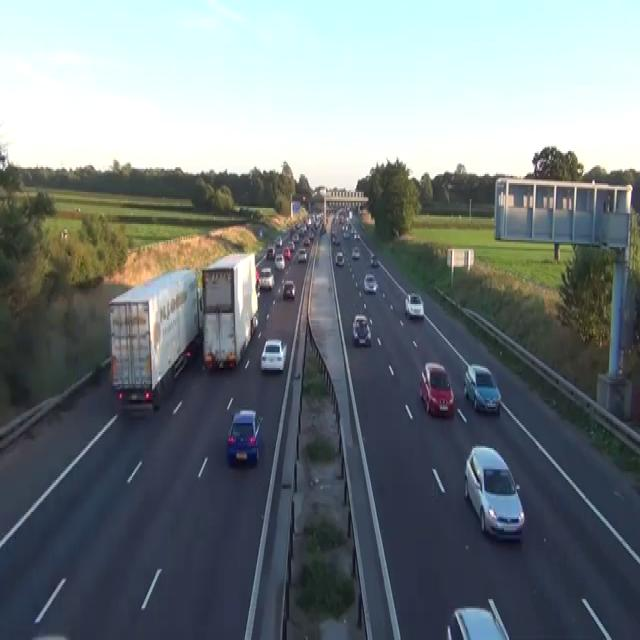Car: (463, 444, 524, 540), (446, 598, 510, 638), (226, 409, 263, 466), (419, 361, 454, 418), (463, 363, 501, 414), (260, 338, 287, 372), (352, 313, 371, 347), (404, 292, 424, 318), (258, 266, 274, 290), (363, 272, 378, 293), (282, 279, 295, 299), (30, 633, 68, 638), (274, 252, 285, 268), (297, 247, 307, 263), (251, 313, 258, 334), (255, 268, 260, 297), (335, 250, 344, 266), (0, 151, 7, 171), (351, 246, 360, 260), (266, 246, 275, 260), (370, 252, 378, 266), (283, 246, 291, 260), (60, 228, 68, 240), (319, 222, 326, 235), (331, 233, 340, 243), (255, 266, 260, 284), (287, 240, 294, 251), (291, 233, 299, 242), (275, 235, 282, 245), (343, 228, 350, 238), (303, 237, 310, 246), (354, 231, 360, 240), (308, 230, 314, 238), (307, 217, 311, 227), (259, 228, 263, 236), (348, 210, 352, 218)
Truck: (108, 267, 202, 416), (201, 250, 259, 370)
